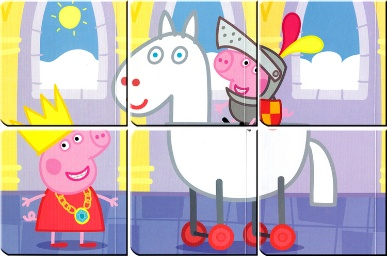Peppa: (22, 132, 120, 249)
